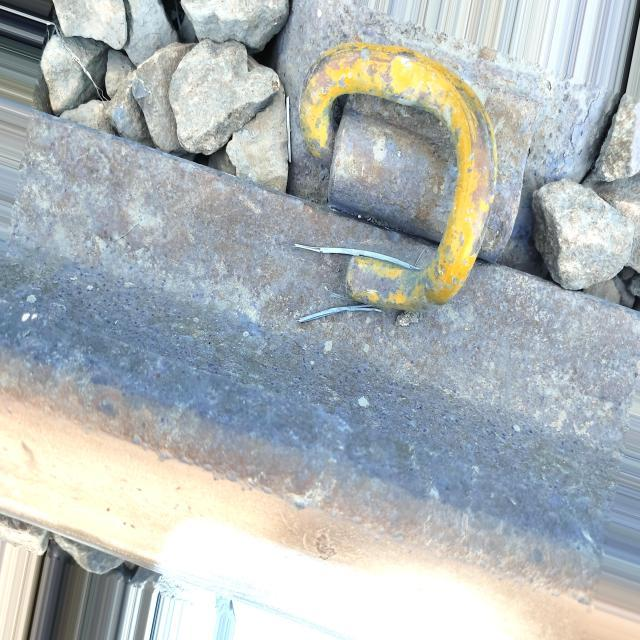Good Fasteners: (292, 25, 543, 322)
